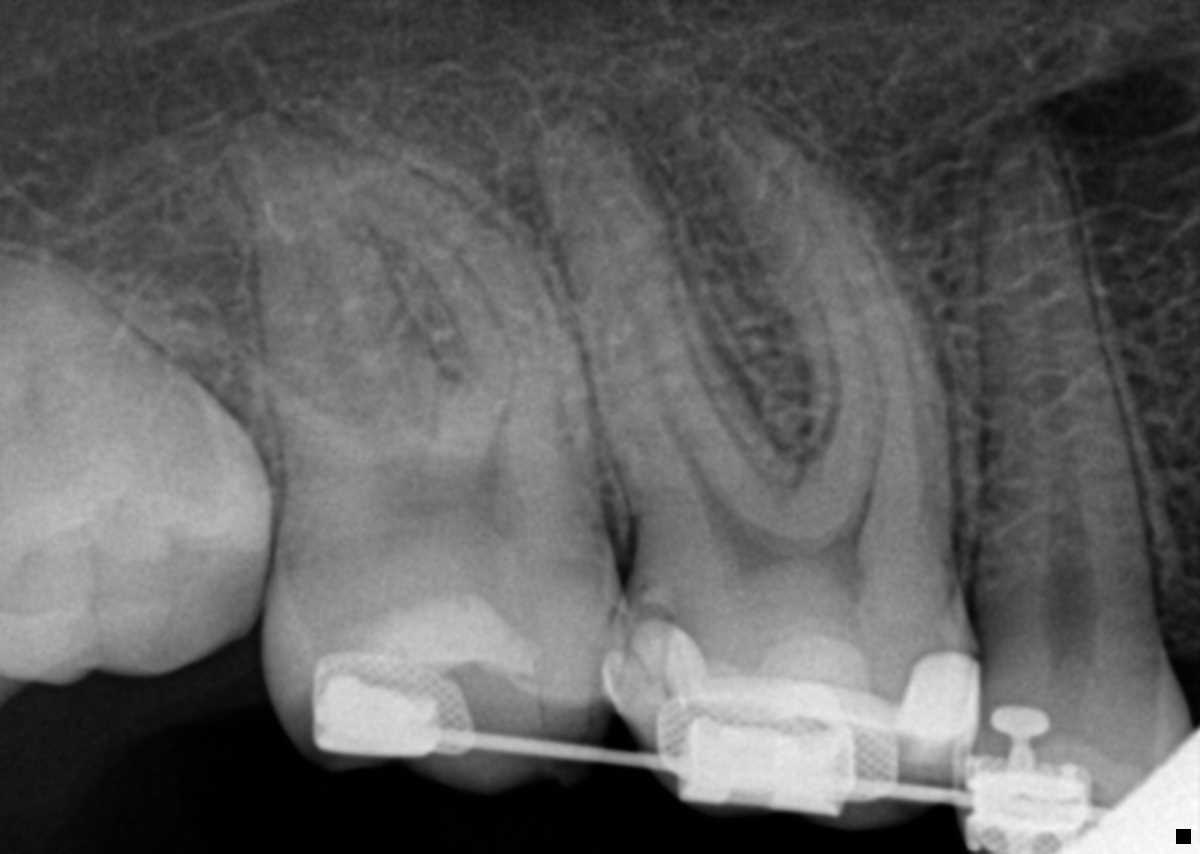Distal Canal: (583, 172, 726, 521)
Distal Root: (530, 114, 785, 554), (234, 134, 431, 512)
Main Canal: (1022, 157, 1104, 653)
Main Root: (977, 125, 1173, 665)
Mesial Canal: (723, 125, 884, 551), (362, 188, 523, 503)
Mesial Root: (687, 94, 960, 580), (339, 158, 605, 532)
